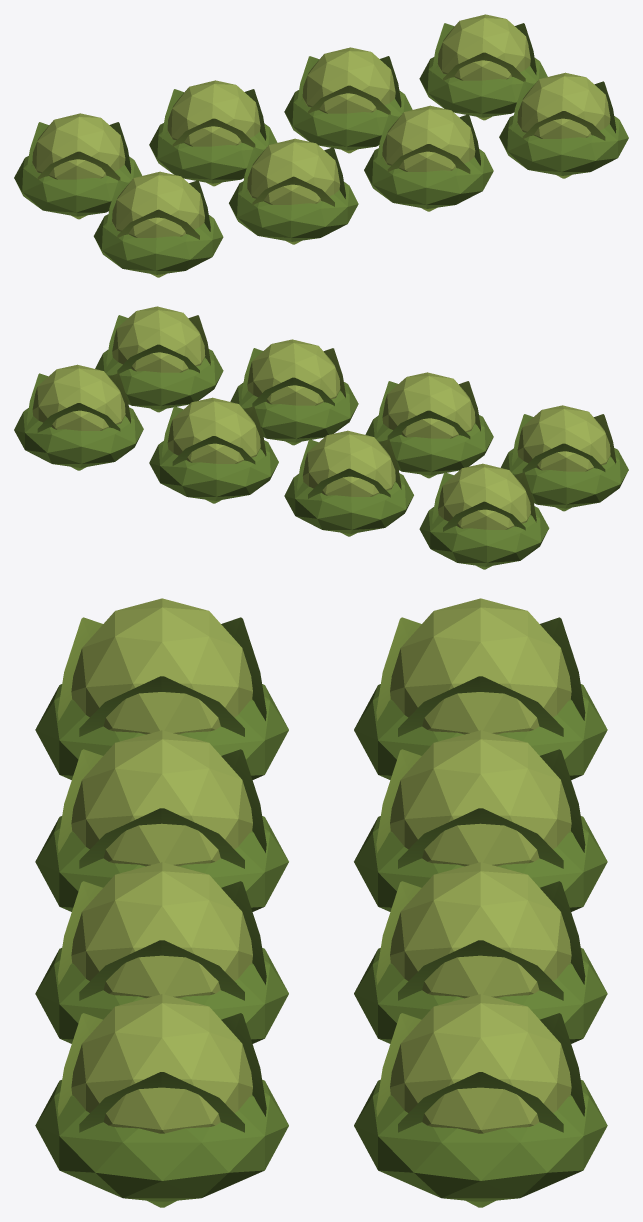
The model's file is pile-lettuce-8.gltf.
3 renders of one model, top to bottom at view 1: azimuth 30°, elevation 25°; view 2: azimuth 150°, elevation 25°; view 3: azimuth 270°, elevation 25°, orthographic. The views are drawn at different scales.
Visible parts, largest first — view 1: pile-lettuce-8; view 2: pile-lettuce-8; view 3: pile-lettuce-8.
Part boxes in pixels (x1,y1,x2,y2): pile-lettuce-8: (14,14,628,277); pile-lettuce-8: (14,306,628,569); pile-lettuce-8: (35,598,607,1207).
Size of the model in its own units: 0.9216 by 0.1512 by 0.4403.
